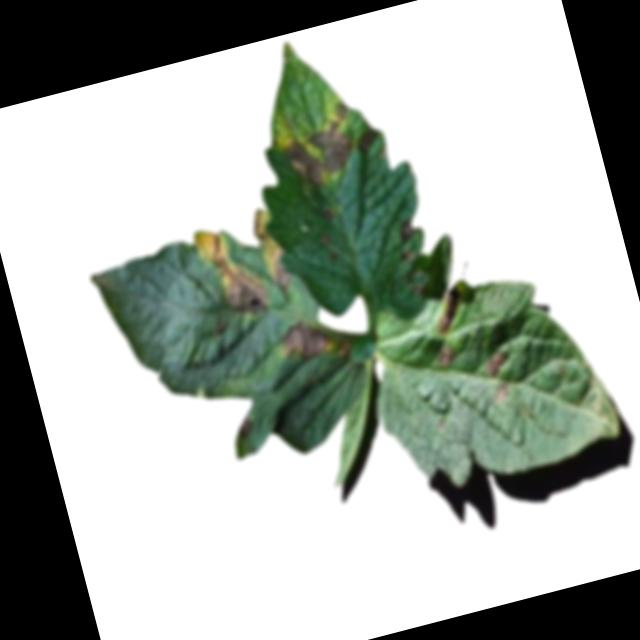Early_blight: (191, 218, 273, 325), (272, 101, 365, 194), (277, 316, 330, 361), (431, 289, 471, 334), (267, 244, 295, 290), (354, 124, 385, 156), (248, 207, 272, 245), (483, 349, 513, 379), (434, 343, 460, 369), (397, 218, 421, 245), (492, 381, 513, 406), (235, 417, 255, 438), (320, 207, 336, 225), (318, 232, 335, 248)
